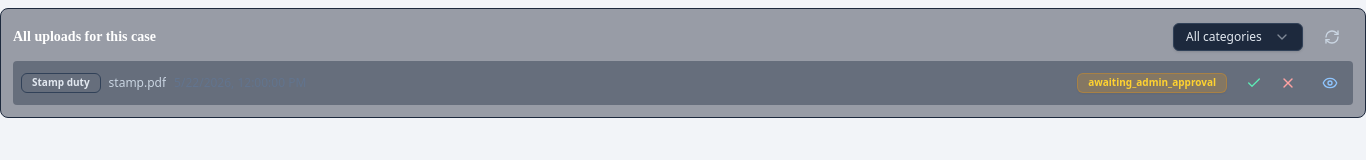
Test: CaseMergedReceiptsPanel — non-OK reload guard clears stale rows › clears stale rows when a reload returns a non-2xx response
The image size is (1366, 160).
expect the list item with test id "merged-upload-stamp_duty-77" is shown: met, box [13, 61, 1353, 105]
Trigger a manual reload via the refresh button.
Click the button with test id "btn-merged-uploads-refresh" at coordinates (1332, 37), box [1311, 21, 1353, 53]
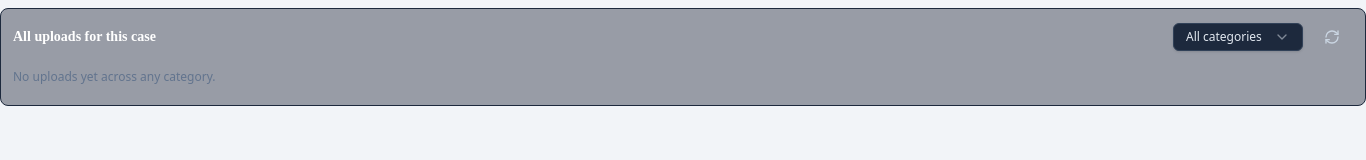
expect the list item with test id "merged-upload-stamp_duty-77" is gone: met
expect the text "No uploads yet across any category." is shown: met, box [13, 68, 216, 85]
